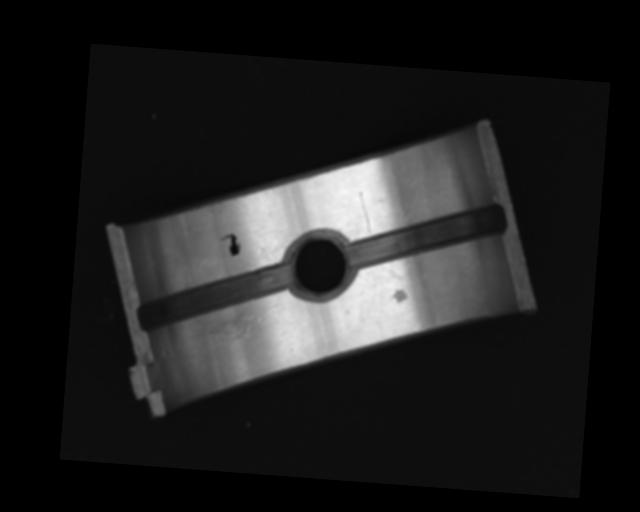blot: (217, 232, 242, 258)
bruise: (390, 287, 408, 305)
gap: (136, 254, 294, 341)
hole: (344, 193, 506, 280), (282, 228, 354, 299)
nick: (355, 191, 375, 236)
scratch: (191, 293, 279, 344)
